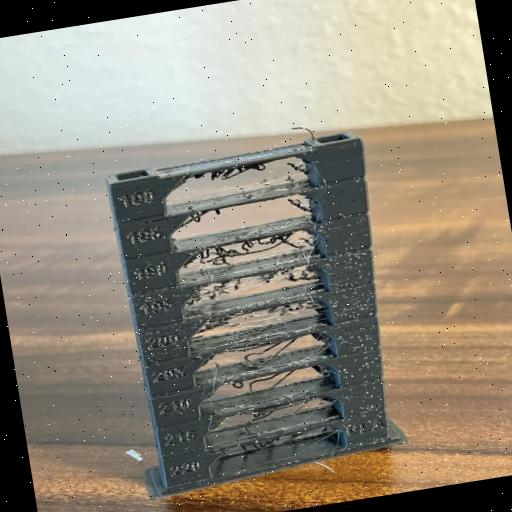stringing: (191, 235, 312, 270), (212, 270, 297, 300), (220, 309, 306, 328)
